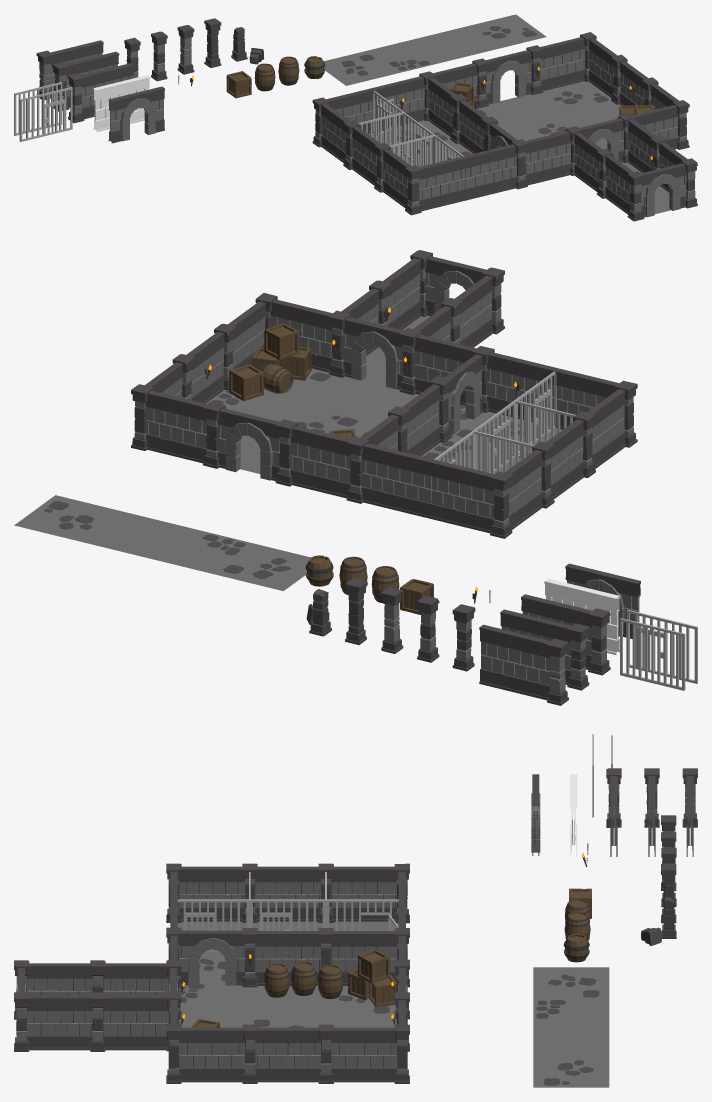
Rendered from modular_dungeon.glb.
The picture shows the model from 3 angles, top to bottom: view 1: azimuth 30°, elevation 25°; view 2: azimuth 150°, elevation 25°; view 3: azimuth 270°, elevation 25°; orthographic projection. The views are drawn at different scales.
Visible parts, largest first — view 1: Cube_73, Cube.028_84, Cube.017_79, wall door.002_13, Cube.024_88, wall door.004_108, Cube.030_85, Cube.007_81, Plane.009_32, Cube.016_78, Plane.010_33, wall door.003_14 (+49 smaller); view 2: Cube_73, Cube.010_75, Cube.012_89, flat wall.003_105, wall door.002_13, Cube.026_90, wall door.001_12, Cube.017_79, Plane.009_32, Plane.011_34, Plane.045_35, Plane.002_20 (+50 smaller); view 3: Cube.014_77, Cube.023_83, Cube.013_76, Cube.009_74, Cube.018_82, Cube.025_92, Cube.031_86, Cube.030_85, Cube.015_94, wall door.005_15, Cube.011_91, Plane.009_32 (+31 smaller).
Boxes of the visible parts, x1,y1,x2,y2 form: Cube_73: (526, 37, 585, 94); Cube.028_84: (464, 144, 517, 200); Cube.017_79: (525, 126, 582, 185); wall door.002_13: (472, 50, 532, 108); Cube.024_88: (418, 156, 466, 210); wall door.004_108: (108, 86, 164, 143); Cube.030_85: (383, 149, 421, 215); Cube.007_81: (605, 155, 644, 221); Plane.009_32: (463, 14, 546, 49); Cube.016_78: (632, 100, 689, 149); Plane.010_33: (409, 27, 492, 62); wall door.003_14: (641, 163, 686, 217); Cube_73: (145, 390, 225, 468); Cube.010_75: (290, 426, 369, 503); Cube.012_89: (361, 443, 433, 518); flat wall.003_105: (479, 624, 550, 700); wall door.002_13: (217, 408, 298, 486); Cube.026_90: (430, 459, 494, 533); wall door.001_12: (328, 310, 403, 389); Cube.017_79: (399, 328, 476, 405); Plane.009_32: (14, 495, 126, 542); Plane.011_34: (140, 526, 252, 573); Plane.045_35: (212, 543, 310, 590); Plane.002_20: (301, 376, 408, 420); Cube.014_77: (179, 1024, 257, 1083); Cube.023_83: (14, 992, 92, 1051); Cube.013_76: (255, 1024, 333, 1083); Cube.009_74: (331, 1024, 409, 1083); Cube.018_82: (90, 992, 168, 1051); Cube.025_92: (318, 863, 397, 922); Cube.031_86: (242, 863, 320, 922); Cube.030_85: (166, 863, 244, 922); Cube.015_94: (242, 928, 320, 987); wall door.005_15: (166, 927, 244, 986); Cube.011_91: (318, 928, 397, 985); Plane.009_32: (533, 1055, 609, 1087).
Bounding box in the file's own units: 37.54 × 3.13 × 35.94.
